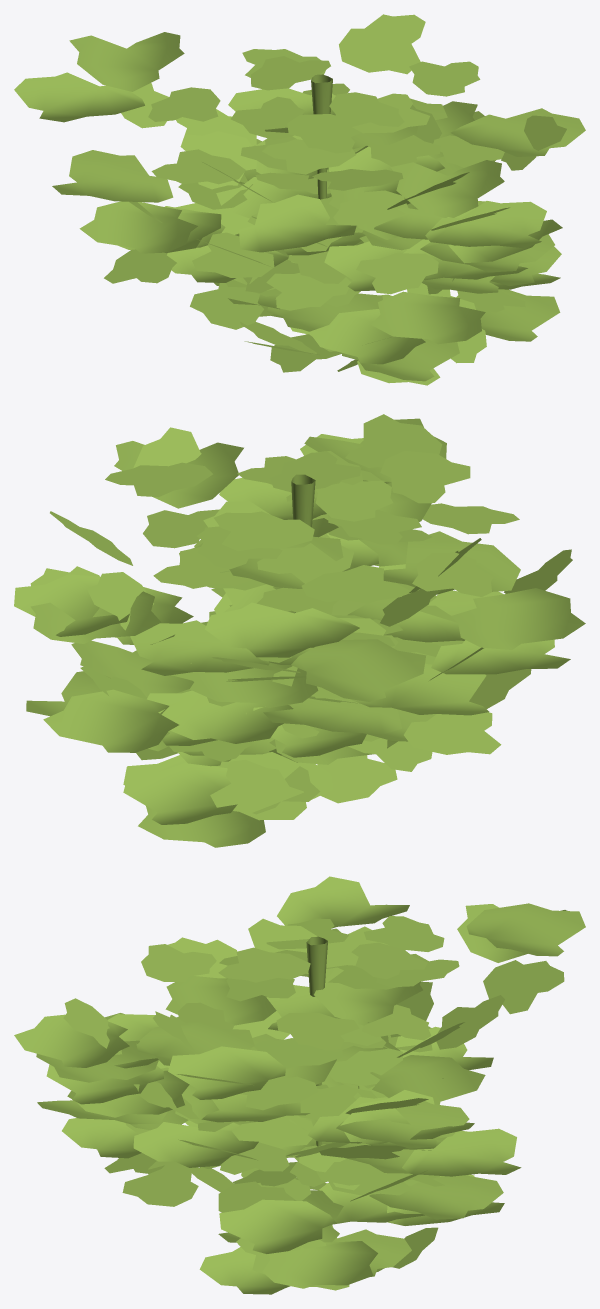
File: BIO_VEG_Bush_01B.fbx
3 renders of one model, top to bottom at view 1: azimuth 30°, elevation 25°; view 2: azimuth 150°, elevation 25°; view 3: azimuth 270°, elevation 25°, orthographic. The views are drawn at different scales.
Visible parts, largest first — view 1: BIO_VEG_Bush_01B; view 2: BIO_VEG_Bush_01B; view 3: BIO_VEG_Bush_01B.
Part boxes in pixels (x1,y1,x2,y2): BIO_VEG_Bush_01B: (14, 14, 585, 385); BIO_VEG_Bush_01B: (14, 414, 585, 847); BIO_VEG_Bush_01B: (14, 876, 585, 1294).
Bounding box in the file's own units: 191 × 117 × 199.
